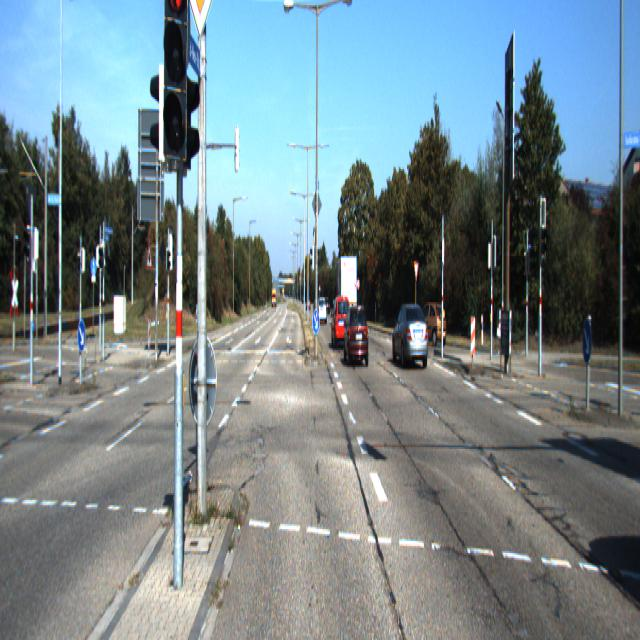Car: (392, 300, 429, 370), (413, 300, 447, 346), (344, 306, 369, 368), (336, 253, 357, 326), (331, 293, 351, 350)
